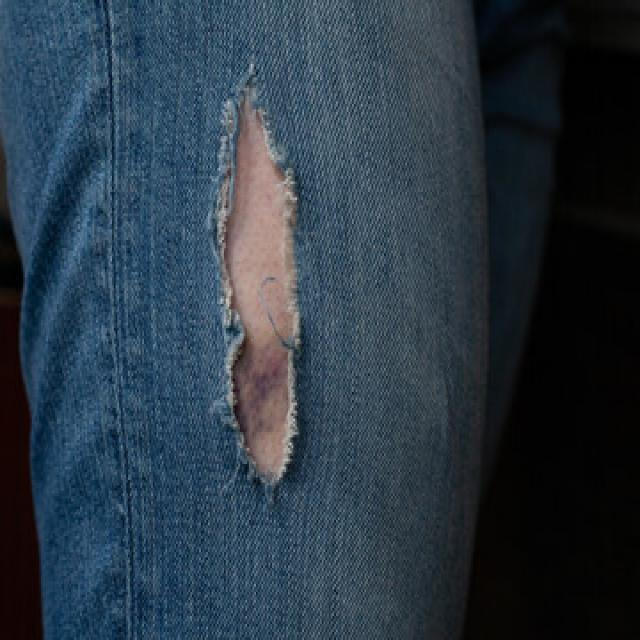Hole: (217, 65, 300, 488)
